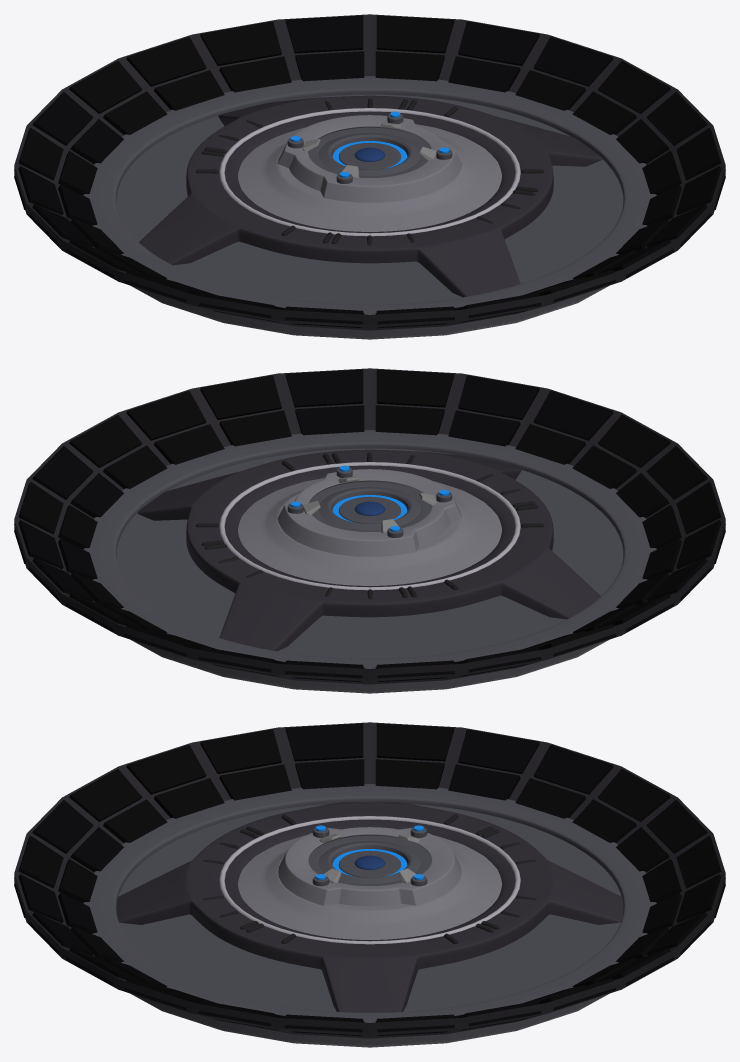
The model's file is dipan.fbx.
The picture shows the model from 3 angles, top to bottom: view 1: azimuth 30°, elevation 25°; view 2: azimuth 150°, elevation 25°; view 3: azimuth 270°, elevation 25°; orthographic projection.
Visible parts, largest first — view 1: pSphere11; view 2: pSphere11; view 3: pSphere11.
Boxes of the visible parts, bbox=[...] form: pSphere11: bbox=[14, 14, 725, 339]; pSphere11: bbox=[14, 368, 725, 693]; pSphere11: bbox=[14, 722, 725, 1047].
Bounding box in the file's own units: 1.95 × 0.2169 × 1.95.
